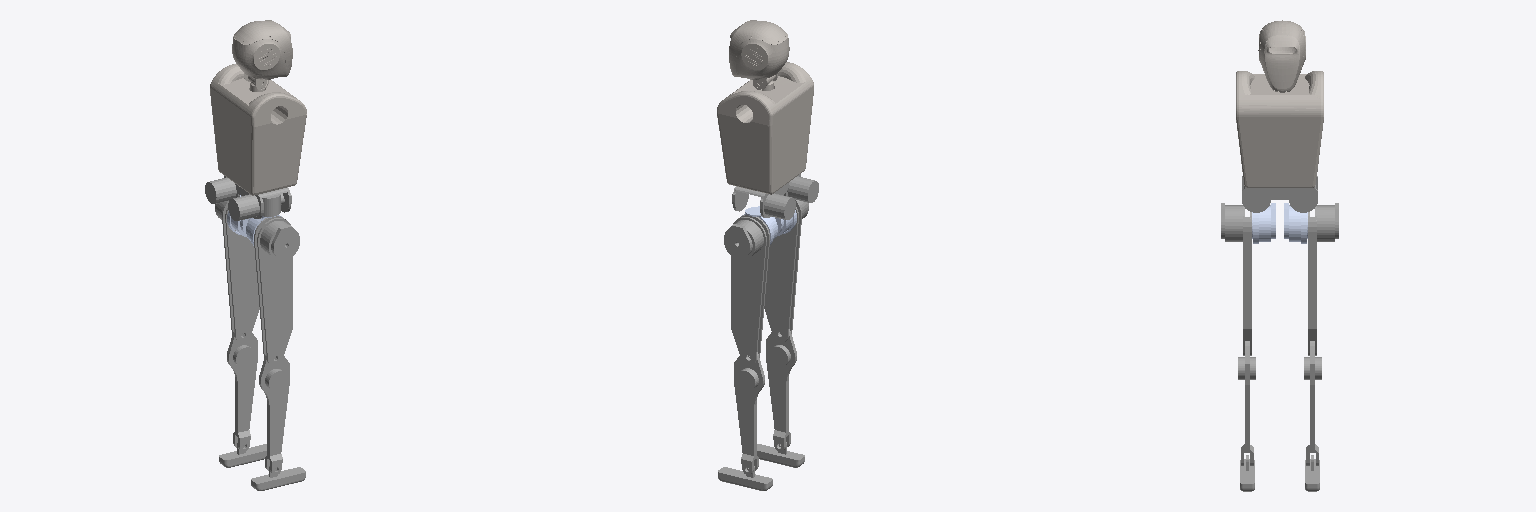
URDF robot description (01RYP-v2):
<?xml version="1.0" encoding="utf-8"?>
<!-- This URDF was automatically created by SolidWorks to URDF Exporter! Originally created by Stephen Brawner (brawner@gmail.com) 
     Commit Version: 1.6.0-4-g7f85cfe  Build Version: 1.6.7995.38578
     For more information, please see http://wiki.ros.org/sw_urdf_exporter -->
<robot
  name="01RYP-v2">
  <mujoco>
    <compiler meshdir="../meshes/" balanceinertia="true" discardvisual="false"/>
  </mujoco>
  <link
    name="pelvis">
    <inertial>
      <origin
        xyz="-0.055358 2.2204E-16 -0.041624"
        rpy="0 0 0" />
      <mass
        value="4.309" />
      <inertia
        ixx="0.029535"
        ixy="3.9726E-18"
        ixz="-0.0022366"
        iyy="0.019102"
        iyz="-5.2003E-18"
        izz="0.042807" />
    </inertial>
    <visual>
      <origin
        xyz="0 0 0"
        rpy="0 0 0" />
      <geometry>
        <mesh
          filename="../meshes/pelvis.STL" />
      </geometry>
      <material
        name="">
        <color
          rgba="0.69804 0.69804 0.69804 1" />
      </material>
    </visual>
  </link>
  <link
    name="waist_yaw_link">
    <inertial>
      <origin
        xyz="0.0049223 0.00024987 0.19873"
        rpy="0 0 0" />
      <mass
        value="16.098" />
      <inertia
        ixx="0.24173"
        ixy="-7.5233E-07"
        ixz="0.001174"
        iyy="0.19665"
        iyz="-2.5208E-06"
        izz="0.15201" />
    </inertial>
    <visual>
      <origin
        xyz="0 0 0"
        rpy="0 0 0" />
      <geometry>
        <mesh
          filename="../meshes/waist_yaw_link.STL" />
      </geometry>
      <material
        name="">
        <color
          rgba="0.77647 0.75686 0.73725 1" />
      </material>
    </visual>
    <collision>
      <origin
        xyz="0 0 0"
        rpy="0 0 0" />
      <geometry>
        <mesh
          filename="../meshes/waist_yaw_link.STL" />
      </geometry>
    </collision>
  </link>
  <joint
    name="waist_yaw_joint"
    type="revolute">
    <origin
      xyz="0 0 0"
      rpy="0 0 0" />
    <parent
      link="pelvis" />
    <child
      link="waist_yaw_link" />
    <axis
      xyz="0 0 1" />
    <limit
      lower="-1.57"
      upper="1.57"
      effort="250"
      velocity="20.9" />
  </joint>
  <link
    name="shoulder_pitch_l_link">
    <inertial>
      <origin
        xyz="-0.038423 0.048491 -0.17283"
        rpy="0 0 0" />
      <mass
        value="1.9945" />
      <inertia
        ixx="0.025633"
        ixy="0.00011702"
        ixz="0.0013766"
        iyy="0.031814"
        iyz="0.0005226"
        izz="0.0073634" />
    </inertial>
    <visual>
      <origin
        xyz="0 0 0"
        rpy="0 0 0" />
      <geometry>
        <mesh
          filename="../meshes/shoulder_pitch_l_link.STL" />
      </geometry>
      <material
        name="">
        <color
          rgba="0.69804 0.69804 0.69804 1" />
      </material>
    </visual>
  </link>
  <joint
    name="shoulder_pitch_l_joint"
    type="revolute">
    <origin
      xyz="0 0.15 0.305"
      rpy="0 0 0" />
    <parent
      link="waist_yaw_link" />
    <child
      link="shoulder_pitch_l_link" />
    <axis
      xyz="0 1 0" />
    <limit
      lower="-3.14"
      upper="3.14"
      effort="52.5"
      velocity="14.1" />
  </joint>
  <link
    name="shoulder_pitch_r_link">
    <inertial>
      <origin
        xyz="-0.038423 -0.048491 -0.17283"
        rpy="0 0 0" />
      <mass
        value="1.9945" />
      <inertia
        ixx="0.025634"
        ixy="-0.00011705"
        ixz="0.0013765"
        iyy="0.031814"
        iyz="-0.00052275"
        izz="0.0073633" />
    </inertial>
    <visual>
      <origin
        xyz="0 0 0"
        rpy="0 0 0" />
      <geometry>
        <mesh
          filename="../meshes/shoulder_pitch_r_link.STL" />
      </geometry>
      <material
        name="">
        <color
          rgba="0.69804 0.69804 0.69804 1" />
      </material>
    </visual>
  </link>
  <joint
    name="shoulder_pitch_r_joint"
    type="revolute">
    <origin
      xyz="0 -0.15 0.305"
      rpy="0 0 0" />
    <parent
      link="waist_yaw_link" />
    <child
      link="shoulder_pitch_r_link" />
    <axis
      xyz="0 1 0" />
    <limit
      lower="-3.14"
      upper="3.14"
      effort="52.5"
      velocity="14.1" />
  </joint>
  <link
    name="hip_roll_l_link">
    <inertial>
      <origin
        xyz="-1.5096E-08 -5.637E-11 -0.0046269"
        rpy="0 0 0" />
      <mass
        value="1.1997" />
      <inertia
        ixx="0.00091806"
        ixy="-1.5696E-08"
        ixz="-2.575E-10"
        iyy="0.0010846"
        iyz="1.7275E-12"
        izz="0.0010747" />
    </inertial>
    <visual>
      <origin
        xyz="0 0 0"
        rpy="0 0 0" />
      <geometry>
        <mesh
          filename="../meshes/hip_roll_l_link.STL" />
      </geometry>
      <material
        name="">
        <color
          rgba="0.69804 0.69804 0.69804 1" />
      </material>
    </visual>
  </link>
  <joint
    name="hip_roll_l_joint"
    type="revolute">
    <origin
      xyz="0 0.08 -0.051"
      rpy="0 0 0" />
    <parent
      link="pelvis" />
    <child
      link="hip_roll_l_link" />
    <axis
      xyz="1 0 0" />
    <limit
      lower="-0.35"
      upper="1.57"
      effort="657"
      velocity="25.6" />
  </joint>
  <link
    name="hip_yaw_l_link">
    <inertial>
      <origin
        xyz="1.5928E-12 -0.023674 -0.074898"
        rpy="0 0 0" />
      <mass
        value="2.4917" />
      <inertia
        ixx="0.0039253"
        ixy="7.724E-14"
        ixz="-1.0708E-13"
        iyy="0.0051093"
        iyz="7.93E-05"
        izz="0.0035857" />
    </inertial>
    <visual>
      <origin
        xyz="0 0 0"
        rpy="0 0 0" />
      <geometry>
        <mesh
          filename="../meshes/hip_yaw_l_link.STL" />
      </geometry>
      <material
        name="">
        <color
          rgba="0.86667 0.9098 1 1" />
      </material>
    </visual>
  </link>
  <joint
    name="hip_yaw_l_joint"
    type="revolute">
    <origin
      xyz="0 0 -0.04"
      rpy="0 0 0" />
    <parent
      link="hip_roll_l_link" />
    <child
      link="hip_yaw_l_link" />
    <axis
      xyz="0 0 1" />
    <limit
      lower="-0.45"
      upper="0.45"
      effort="190"
      velocity="13" />
  </joint>
  <link
    name="hip_pitch_l_link">
    <inertial>
      <origin
        xyz="0.0047778 0.046744 -0.067542"
        rpy="0 0 0" />
      <mass
        value="3.5971" />
      <inertia
        ixx="0.030374"
        ixy="1.6786E-19"
        ixz="0.00046536"
        iyy="0.032951"
        iyz="-7.93E-05"
        izz="0.0052437" />
    </inertial>
    <visual>
      <origin
        xyz="0 0 0"
        rpy="0 0 0" />
      <geometry>
        <mesh
          filename="../meshes/hip_pitch_l_link.STL" />
      </geometry>
      <material
        name="">
        <color
          rgba="0.69804 0.69804 0.69804 1" />
      </material>
    </visual>
  </link>
  <joint
    name="hip_pitch_l_joint"
    type="revolute">
    <origin
      xyz="0 0.015 -0.078"
      rpy="0 0 0" />
    <parent
      link="hip_yaw_l_link" />
    <child
      link="hip_pitch_l_link" />
    <axis
      xyz="0 1 0" />
    <limit
      lower="-2.79"
      upper="2.09"
      effort="657"
      velocity="25.6" />
  </joint>
  <link
    name="knee_pitch_l_link">
    <inertial>
      <origin
        xyz="0.00516300021966964 0.00102843799937524 -0.152148072939373"
        rpy="0 0 0" />
      <mass
        value="2.08949980910208" />
      <inertia
        ixx="0.0213746088737991"
        ixy="6.98695511195176E-21"
        ixz="-0.000265927000541336"
        iyy="0.0221033881722904"
        iyz="-4.49437093659076E-19"
        izz="0.00136498691076911" />
    </inertial>
    <visual>
      <origin
        xyz="0 0 0"
        rpy="0 0 0" />
      <geometry>
        <mesh
          filename="../meshes/knee_pitch_l_link.STL" />
      </geometry>
      <material
        name="">
        <color
          rgba="0.698039215686274 0.698039215686274 0.698039215686274 1" />
      </material>
    </visual>
  </link>
  <joint
    name="knee_pitch_l_joint"
    type="revolute">
    <origin
      xyz="0 0.015 -0.46"
      rpy="0 0 0" />
    <parent
      link="hip_pitch_l_link" />
    <child
      link="knee_pitch_l_link" />
    <axis
      xyz="0 1 0" />
    <limit
      lower="0"
      upper="2.62"
      effort="657"
      velocity="25.6" />
  </joint>
  <link
    name="ankle_pitch_l_link">
    <inertial>
      <origin
        xyz="0.019285 0 -0.050437"
        rpy="0 0 0" />
      <mass
        value="0.66122" />
      <inertia
        ixx="0.00022685"
        ixy="-2.2243E-20"
        ixz="1.7631E-05"
        iyy="0.0021174"
        iyz="-1.0412E-20"
        izz="0.0021439" />
    </inertial>
    <visual>
      <origin
        xyz="0 0 0"
        rpy="0 0 0" />
      <geometry>
        <mesh
          filename="../meshes/ankle_pitch_l_link.STL" />
      </geometry>
      <material
        name="">
        <color
          rgba="0.69804 0.69804 0.69804 1" />
      </material>
    </visual>
    <collision>
      <origin
        xyz="0 0 0"
        rpy="0 0 0" />
      <geometry>
        <mesh
          filename="../meshes/ankle_pitch_l_link.STL" />
      </geometry>
    </collision>
  </link>
  <joint
    name="ankle_pitch_l_joint"
    type="revolute">
    <origin
      xyz="0 0 -0.42"
      rpy="0 0 0" />
    <parent
      link="knee_pitch_l_link" />
    <child
      link="ankle_pitch_l_link" />
    <axis
      xyz="0 1 0" />
    <limit
      lower="-1.22"
      upper="1.05"
      effort="180"
      velocity="26" />
  </joint>
  <link
    name="hip_roll_r_link">
    <inertial>
      <origin
        xyz="-1.5096E-08 -5.637E-11 -0.0046269"
        rpy="0 0 0" />
      <mass
        value="1.1997" />
      <inertia
        ixx="0.00091806"
        ixy="-1.5696E-08"
        ixz="-2.575E-10"
        iyy="0.0010846"
        iyz="1.7275E-12"
        izz="0.0010747" />
    </inertial>
    <visual>
      <origin
        xyz="0 0 0"
        rpy="0 0 0" />
      <geometry>
        <mesh
          filename="../meshes/hip_roll_r_link.STL" />
      </geometry>
      <material
        name="">
        <color
          rgba="0.69804 0.69804 0.69804 1" />
      </material>
    </visual>
  </link>
  <joint
    name="hip_roll_r_joint"
    type="revolute">
    <origin
      xyz="0 -0.08 -0.051"
      rpy="0 0 0" />
    <parent
      link="pelvis" />
    <child
      link="hip_roll_r_link" />
    <axis
      xyz="1 0 0" />
    <limit
      lower="-0.35"
      upper="1.57"
      effort="657"
      velocity="25.6" />
  </joint>
  <link
    name="hip_yaw_r_link">
    <inertial>
      <origin
        xyz="1.5925E-12 0.023674 -0.074898"
        rpy="0 0 0" />
      <mass
        value="2.4917" />
      <inertia
        ixx="0.0039253"
        ixy="7.724E-14"
        ixz="-1.0708E-13"
        iyy="0.0051093"
        iyz="-7.93E-05"
        izz="0.0035857" />
    </inertial>
    <visual>
      <origin
        xyz="0 0 0"
        rpy="0 0 0" />
      <geometry>
        <mesh
          filename="../meshes/hip_yaw_r_link.STL" />
      </geometry>
      <material
        name="">
        <color
          rgba="0.86667 0.9098 1 1" />
      </material>
    </visual>
  </link>
  <joint
    name="hip_yaw_r_joint"
    type="revolute">
    <origin
      xyz="0 0 -0.04"
      rpy="0 0 0" />
    <parent
      link="hip_roll_r_link" />
    <child
      link="hip_yaw_r_link" />
    <axis
      xyz="0 0 1" />
    <limit
      lower="-0.45"
      upper="0.45"
      effort="190"
      velocity="13" />
  </joint>
  <link
    name="hip_pitch_r_link">
    <inertial>
      <origin
        xyz="0.0047778 -0.046744 -0.067542"
        rpy="0 0 0" />
      <mass
        value="3.5971" />
      <inertia
        ixx="0.030374"
        ixy="2.0943E-19"
        ixz="0.00046536"
        iyy="0.032951"
        iyz="7.93E-05"
        izz="0.0052437" />
    </inertial>
    <visual>
      <origin
        xyz="0 0 0"
        rpy="0 0 0" />
      <geometry>
        <mesh
          filename="../meshes/hip_pitch_r_link.STL" />
      </geometry>
      <material
        name="">
        <color
          rgba="0.69804 0.69804 0.69804 1" />
      </material>
    </visual>
  </link>
  <joint
    name="hip_pitch_r_joint"
    type="revolute">
    <origin
      xyz="0 -0.015 -0.078"
      rpy="0 0 0" />
    <parent
      link="hip_yaw_r_link" />
    <child
      link="hip_pitch_r_link" />
    <axis
      xyz="0 1 0" />
    <limit
      lower="-2.79"
      upper="2.09"
      effort="657"
      velocity="25.6" />
  </joint>
  <link
    name="knee_pitch_r_link">
    <inertial>
      <origin
        xyz="0.005163 -0.0010284 -0.15215"
        rpy="0 0 0" />
      <mass
        value="2.0895" />
      <inertia
        ixx="0.021375"
        ixy="5.0979E-21"
        ixz="-0.00026593"
        iyy="0.022103"
        iyz="-3.1986E-19"
        izz="0.001365" />
    </inertial>
    <visual>
      <origin
        xyz="0 0 0"
        rpy="0 0 0" />
      <geometry>
        <mesh
          filename="../meshes/knee_pitch_r_link.STL" />
      </geometry>
      <material
        name="">
        <color
          rgba="0.69804 0.69804 0.69804 1" />
      </material>
    </visual>
  </link>
  <joint
    name="knee_pitch_r_joint"
    type="revolute">
    <origin
      xyz="0 -0.015 -0.46"
      rpy="0 0 0" />
    <parent
      link="hip_pitch_r_link" />
    <child
      link="knee_pitch_r_link" />
    <axis
      xyz="0 1 0" />
    <limit
      lower="0"
      upper="2.62"
      effort="657"
      velocity="25.6" />
  </joint>
  <link
    name="ankle_pitch_r_link">
    <inertial>
      <origin
        xyz="0.019285 2.2204E-16 -0.050437"
        rpy="0 0 0" />
      <mass
        value="0.66122" />
      <inertia
        ixx="0.00022685"
        ixy="2.8473E-20"
        ixz="1.7631E-05"
        iyy="0.0021174"
        iyz="-1.0208E-20"
        izz="0.0021439" />
    </inertial>
    <visual>
      <origin
        xyz="0 0 0"
        rpy="0 0 0" />
      <geometry>
        <mesh
          filename="../meshes/ankle_pitch_r_link.STL" />
      </geometry>
      <material
        name="">
        <color
          rgba="0.69804 0.69804 0.69804 1" />
      </material>
    </visual>
    <collision>
      <origin
        xyz="0 0 0"
        rpy="0 0 0" />
      <geometry>
        <mesh
          filename="../meshes/ankle_pitch_r_link.STL" />
      </geometry>
    </collision>
  </link>
  <joint
    name="ankle_pitch_r_joint"
    type="revolute">
    <origin
      xyz="0 0 -0.42"
      rpy="0 0 0" />
    <parent
      link="knee_pitch_r_link" />
    <child
      link="ankle_pitch_r_link" />
    <axis
      xyz="0 1 0" />
    <limit
      lower="-1.22"
      upper="1.05"
      effort="180"
      velocity="26" />
  </joint>
</robot>

--- Render facts (derived) ---
The picture shows the robot from 3 angles, left to right: view 1: azimuth 30°, elevation 25°; view 2: azimuth 150°, elevation 25°; view 3: azimuth 270°, elevation 25°; orthographic projection.
Model 01RYP-v2 with 14 links and 13 joints (13 revolute), rooted at pelvis, posed every joint at zero.
Visible links, largest first — view 1: waist_yaw_link, hip_pitch_r_link, hip_pitch_l_link, knee_pitch_l_link, knee_pitch_r_link, pelvis, ankle_pitch_r_link, ankle_pitch_l_link; view 2: waist_yaw_link, hip_pitch_l_link, hip_pitch_r_link, knee_pitch_l_link, knee_pitch_r_link, pelvis, ankle_pitch_l_link, ankle_pitch_r_link; view 3: waist_yaw_link, hip_pitch_l_link, hip_pitch_r_link, pelvis, knee_pitch_l_link, knee_pitch_r_link, hip_yaw_l_link, hip_yaw_r_link.
Link boxes in pixels (x1=…): waist_yaw_link: x1=210, y1=20, x2=306, y2=195; hip_pitch_r_link: x1=254, y1=216, x2=299, y2=366; hip_pitch_l_link: x1=215, y1=201, x2=259, y2=342; knee_pitch_l_link: x1=227, y1=329, x2=257, y2=451; knee_pitch_r_link: x1=259, y1=353, x2=289, y2=474; pelvis: x1=205, y1=176, x2=291, y2=220; ankle_pitch_r_link: x1=251, y1=466, x2=305, y2=490; ankle_pitch_l_link: x1=219, y1=443, x2=266, y2=467; waist_yaw_link: x1=717, y1=20, x2=813, y2=194; hip_pitch_l_link: x1=724, y1=215, x2=769, y2=365; hip_pitch_r_link: x1=764, y1=200, x2=808, y2=342; knee_pitch_l_link: x1=734, y1=352, x2=764, y2=474; knee_pitch_r_link: x1=766, y1=329, x2=796, y2=451; pelvis: x1=732, y1=174, x2=818, y2=219; ankle_pitch_l_link: x1=718, y1=466, x2=772, y2=490; ankle_pitch_r_link: x1=757, y1=442, x2=804, y2=467; waist_yaw_link: x1=1236, y1=20, x2=1323, y2=187; hip_pitch_l_link: x1=1308, y1=203, x2=1338, y2=355; hip_pitch_r_link: x1=1221, y1=203, x2=1251, y2=355; pelvis: x1=1242, y1=176, x2=1317, y2=212; knee_pitch_l_link: x1=1304, y1=341, x2=1321, y2=465; knee_pitch_r_link: x1=1238, y1=341, x2=1255, y2=465; hip_yaw_l_link: x1=1284, y1=203, x2=1307, y2=243; hip_yaw_r_link: x1=1252, y1=203, x2=1275, y2=243.
Size in the robot's own frame: 0.2614 by 0.402 by 1.7 metres.
Meshes: 14 distinct files referenced, 11 mesh visuals loaded (11 binary STL); not drawn: 3 (reference not matched to a file when rendering).
